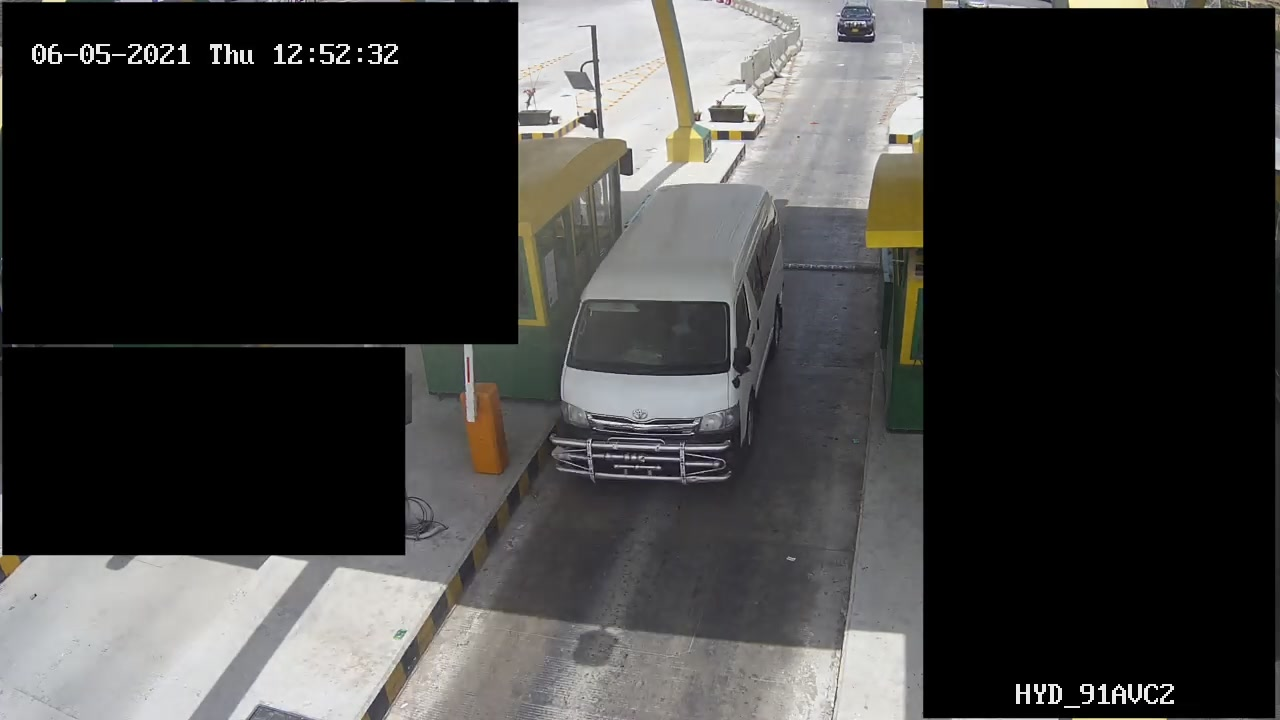F2: (554, 180, 794, 491)
